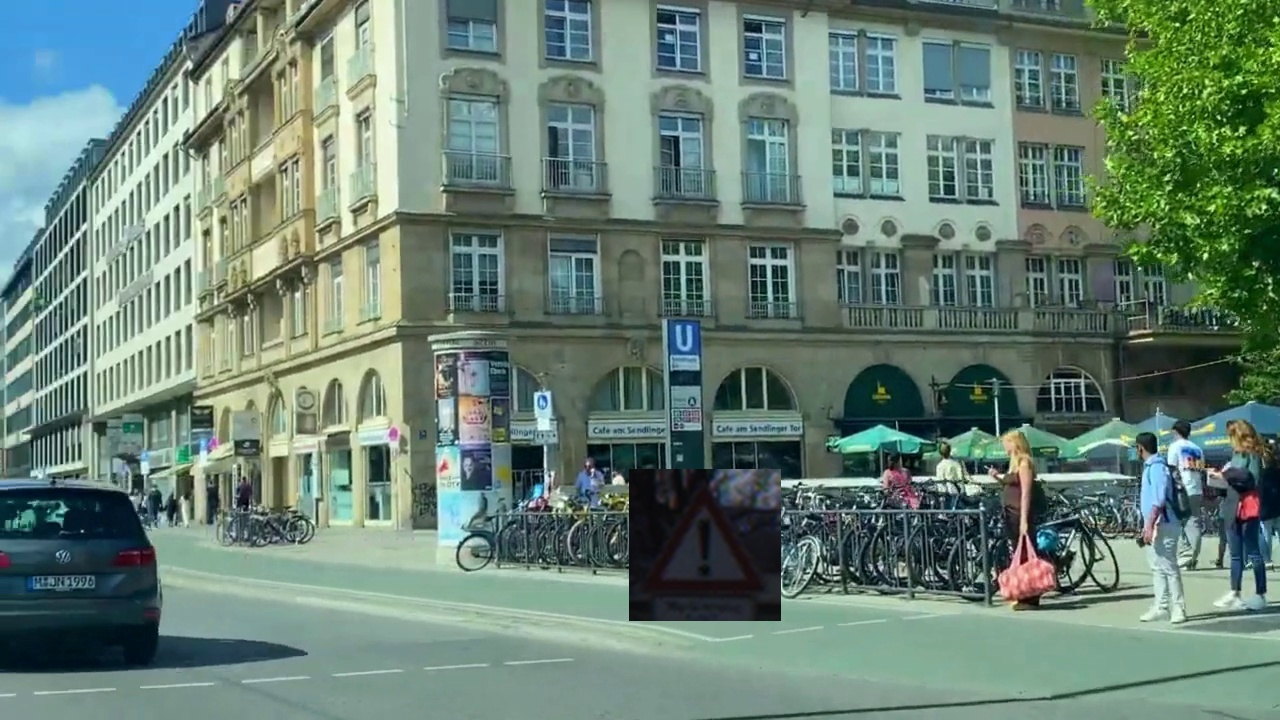Caution: (629, 469, 781, 621)
